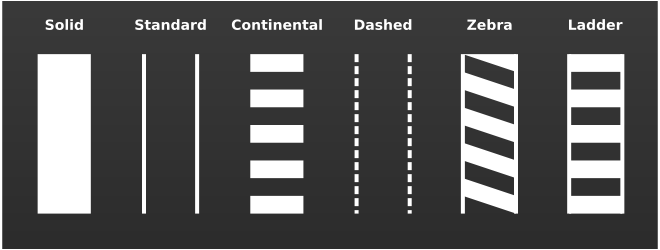Crosswalk: (233, 45, 333, 235)
